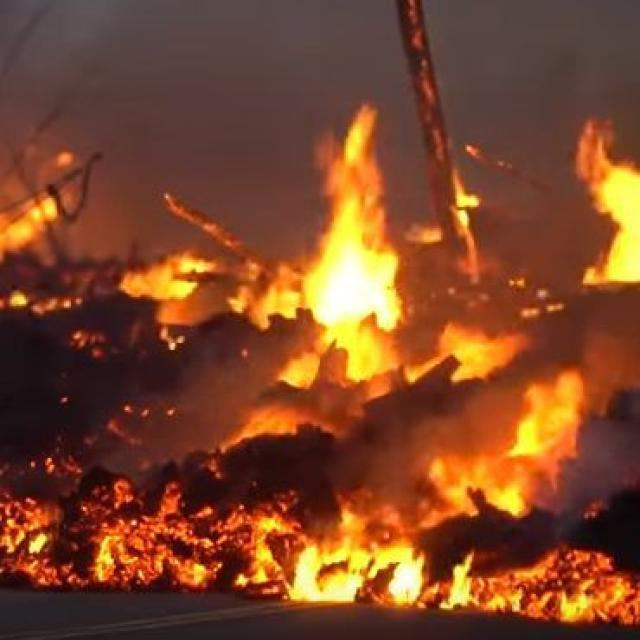Fire: (3, 479, 276, 595), (311, 108, 403, 332), (261, 532, 489, 615), (507, 546, 640, 633), (426, 313, 540, 401), (571, 134, 640, 279), (235, 270, 337, 352), (410, 465, 530, 532), (120, 236, 222, 312), (506, 367, 590, 458), (229, 396, 334, 466), (299, 326, 402, 387), (0, 185, 75, 262)
Smoke: (17, 0, 572, 179)
